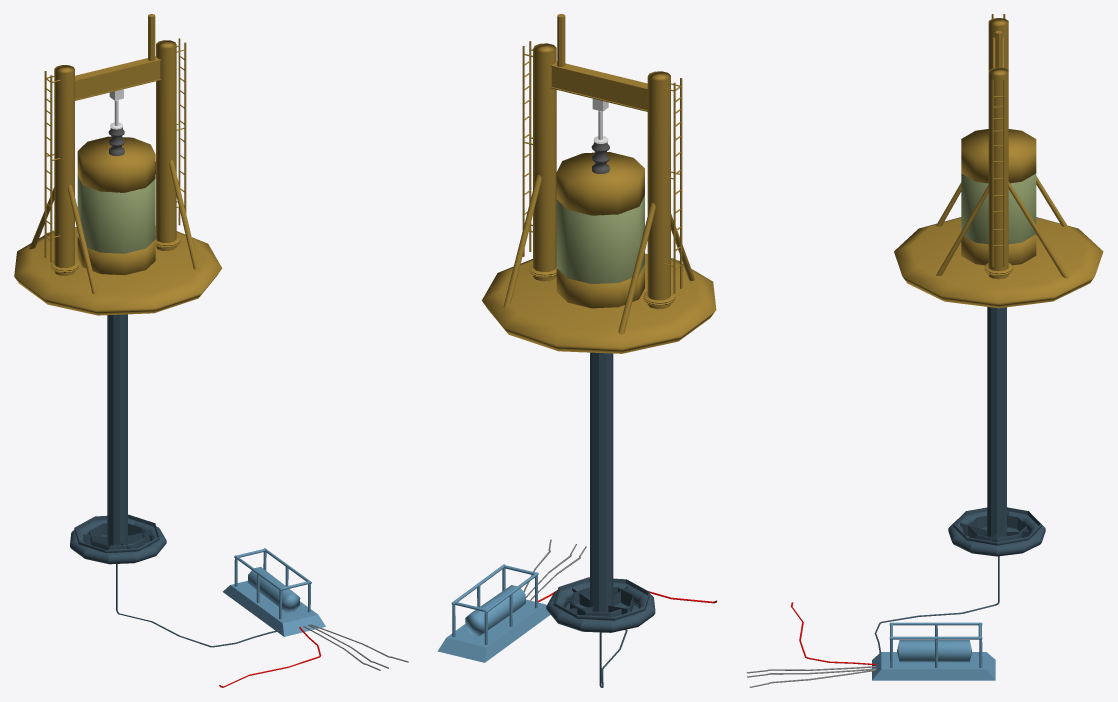
The model's file is wave-energy.fbx.
The picture shows the model from 3 angles, left to right: view 1: azimuth 30°, elevation 25°; view 2: azimuth 150°, elevation 25°; view 3: azimuth 270°, elevation 25°; orthographic projection. The views are drawn at different scales.
Visible parts, largest first — view 1: thermal_base_plate, polySurface4, tank_mid, pillar_02, pillar_01, tank_cap, connector_undewatrer, channel, cap_bottom, pCylinder7, support3, support1 (+1 smaller); view 2: thermal_base_plate, polySurface4, tank_mid, pillar_02, pillar_01, tank_cap, channel, connector_undewatrer, cap_bottom, pCylinder7, lad_l (×2), lad_r (×2) (+5 smaller); view 3: thermal_base_plate, polySurface4, pillar_01, tank_mid, tank_cap, connector_undewatrer, pCylinder7, cap_bottom, pillar_02, bottom_support_inside, support, lad_l (+1 smaller).
Boxes of the visible parts, x1,y1,x2,y2 form: thermal_base_plate: [14, 225, 221, 315]; polySurface4: [70, 314, 166, 564]; tank_mid: [77, 175, 155, 253]; pillar_02: [54, 65, 74, 275]; pillar_01: [156, 40, 176, 250]; tank_cap: [77, 136, 155, 192]; connector_undewatrer: [223, 580, 325, 636]; channel: [75, 56, 161, 100]; cap_bottom: [77, 236, 155, 275]; pCylinder7: [247, 567, 300, 613]; support3: [169, 160, 198, 269]; support1: [68, 185, 97, 294]; thermal_base_plate: [482, 253, 716, 353]; polySurface4: [546, 352, 655, 632]; tank_mid: [556, 196, 644, 283]; pillar_02: [647, 71, 670, 309]; pillar_01: [533, 43, 556, 281]; tank_cap: [556, 152, 644, 215]; channel: [550, 61, 647, 111]; connector_undewatrer: [437, 599, 550, 662]; cap_bottom: [556, 264, 644, 308]; pCylinder7: [465, 585, 525, 636]; lad_l (×2): [522, 46, 682, 288]; lad_r (×2): [529, 41, 675, 293]; thermal_base_plate: [894, 217, 1103, 308]; polySurface4: [948, 307, 1045, 556]; pillar_01: [988, 67, 1008, 279]; tank_mid: [961, 173, 1036, 244]; tank_cap: [961, 129, 1036, 183]; connector_undewatrer: [872, 652, 995, 680]; pCylinder7: [897, 640, 971, 662]; cap_bottom: [961, 234, 1036, 265]; pillar_02: [988, 18, 1008, 70]; bottom_support_inside: [968, 515, 1026, 542]; support: [1008, 181, 1068, 278]; lad_l: [1003, 79, 1005, 267].
Bounding box in the file's own units: 28.3 × 62.56 × 34.09.
